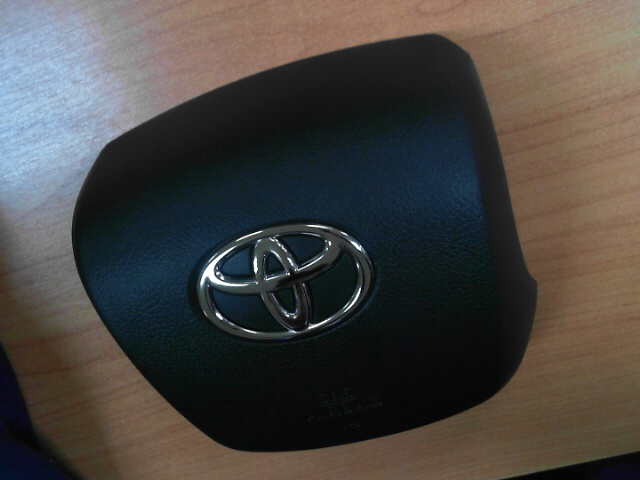AirbagV2: (70, 30, 543, 457)
